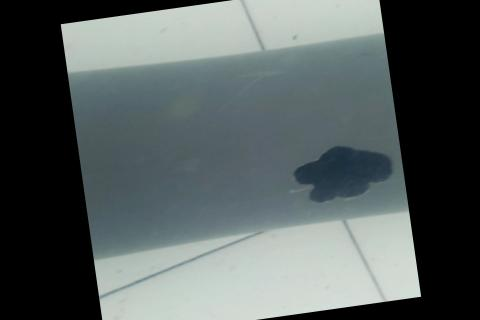kebocoran: (286, 137, 396, 206)
